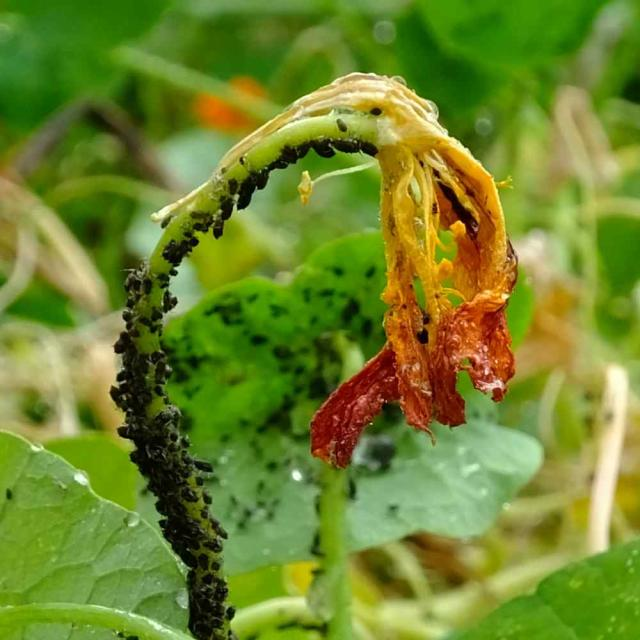Aphid-Grouped-: (96, 273, 248, 626)
